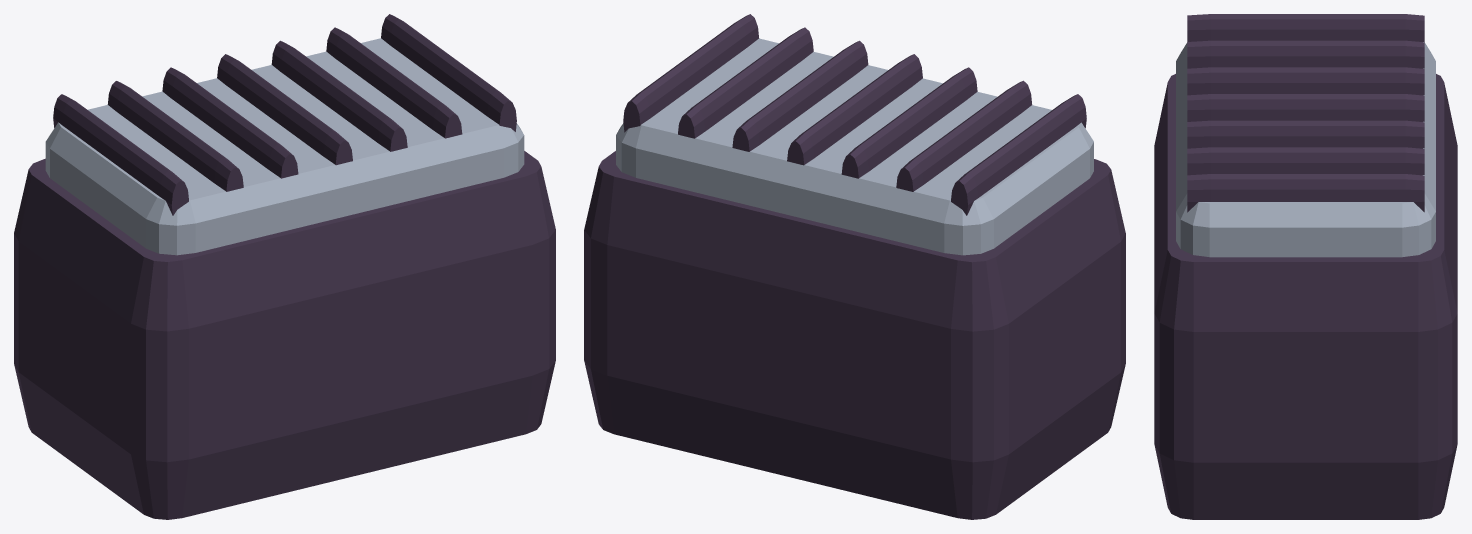
File: sausage_grill.glb
3 renders of one model, left to right at view 1: azimuth 30°, elevation 25°; view 2: azimuth 150°, elevation 25°; view 3: azimuth 270°, elevation 25°, orthographic.
Visible parts, largest first — view 1: model; view 2: model; view 3: model.
Part boxes in pixels (x1,y1,x2,y2): model: (14, 14, 555, 519); model: (584, 14, 1125, 519); model: (1154, 14, 1457, 519).
Size of the model in its own units: 0.8 by 0.6 by 0.5.
